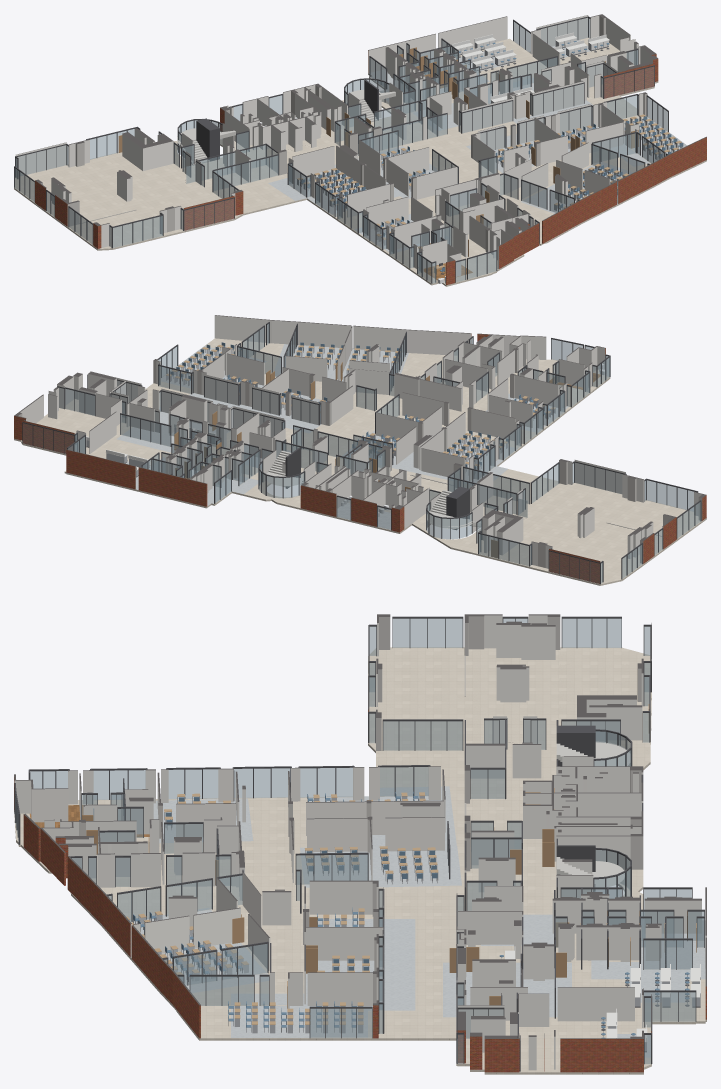
Rendered from campus.glb.
3 renders of one model, top to bottom at view 1: azimuth 30°, elevation 25°; view 2: azimuth 150°, elevation 25°; view 3: azimuth 270°, elevation 25°, orthographic. The views are drawn at different scales.
Parts seen in each view (by area): view 1: P2_Walls, P2_Glass, P2_Floor_Slab, P2_Glass_Mullions, P2_Floor_Zones, P2_Glass_Frames_Top, P2_Columns, P2_Furniture_3_3, P2_Doors, P2_Furniture_3_2, P2_Stair_A_West, P2_Furniture_1_2 (+2 smaller); view 2: P2_Walls, P2_Glass, P2_Floor_Slab, P2_Glass_Mullions, P2_Floor_Zones, P2_Glass_Frames_Top, P2_Columns, P2_Stair_A_West, P2_Doors, P2_Stair_A_East, P2_Furniture_3_2, P2_Furniture_1_2 (+4 smaller); view 3: P2_Walls, P2_Floor_Slab, P2_Glass, P2_Floor_Zones, P2_Glass_Mullions, P2_Glass_Frames_Top, P2_Columns, P2_Doors, P2_Furniture_3_2, P2_Furniture_2_2, P2_Furniture_3_3, P2_Stair_A_West (+3 smaller).
Part boxes in pixels (x1=…): P2_Walls: x1=15, y1=15, x2=706, y2=285; P2_Glass: x1=14, y1=18, x2=667, y2=283; P2_Floor_Slab: x1=14, y1=37, x2=706, y2=286; P2_Glass_Mullions: x1=14, y1=18, x2=668, y2=283; P2_Floor_Zones: x1=268, y1=40, x2=686, y2=280; P2_Glass_Frames_Top: x1=14, y1=16, x2=668, y2=263; P2_Columns: x1=35, y1=14, x2=647, y2=252; P2_Furniture_3_3: x1=451, y1=32, x2=609, y2=103; P2_Doors: x1=118, y1=47, x2=638, y2=256; P2_Furniture_3_2: x1=557, y1=114, x2=683, y2=171; P2_Stair_A_West: x1=177, y1=118, x2=235, y2=165; P2_Furniture_1_2: x1=297, y1=168, x2=365, y2=211; P2_Walls: x1=17, y1=315, x2=702, y2=583; P2_Glass: x1=23, y1=324, x2=700, y2=583; P2_Floor_Slab: x1=14, y1=338, x2=706, y2=585; P2_Glass_Mullions: x1=22, y1=322, x2=701, y2=584; P2_Floor_Zones: x1=116, y1=344, x2=600, y2=529; P2_Glass_Frames_Top: x1=23, y1=322, x2=701, y2=563; P2_Columns: x1=14, y1=348, x2=706, y2=567; P2_Stair_A_West: x1=427, y1=486, x2=481, y2=529; P2_Doors: x1=169, y1=361, x2=527, y2=558; P2_Stair_A_East: x1=267, y1=447, x2=304, y2=488; P2_Furniture_3_2: x1=166, y1=344, x2=260, y2=400; P2_Furniture_1_2: x1=443, y1=430, x2=508, y2=474; P2_Walls: x1=14, y1=614, x2=706, y2=1072; P2_Floor_Slab: x1=14, y1=647, x2=706, y2=1074; P2_Glass: x1=14, y1=618, x2=704, y2=1063; P2_Floor_Zones: x1=29, y1=786, x2=705, y2=1057; P2_Glass_Mullions: x1=14, y1=616, x2=704, y2=1071; P2_Glass_Frames_Top: x1=14, y1=616, x2=704, y2=1040; P2_Columns: x1=79, y1=614, x2=643, y2=1072; P2_Doors: x1=82, y1=704, x2=696, y2=1008; P2_Furniture_3_2: x1=235, y1=955, x2=369, y2=1033; P2_Furniture_2_2: x1=305, y1=846, x2=438, y2=926; P2_Furniture_3_3: x1=499, y1=946, x2=700, y2=1052; P2_Stair_A_West: x1=556, y1=725, x2=630, y2=766.
Bounding box in the file's own units: 77.07 × 4.04 × 53.14.
Materials: 20 (5 with a texture image).
